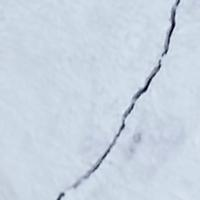crack: (51, 1, 180, 198)
